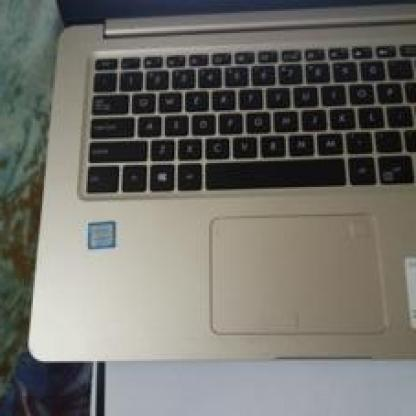keyboard: (70, 41, 414, 228)
